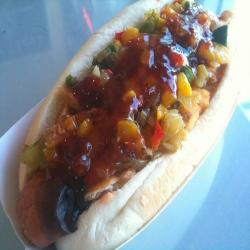hotdog: (16, 3, 245, 249)
